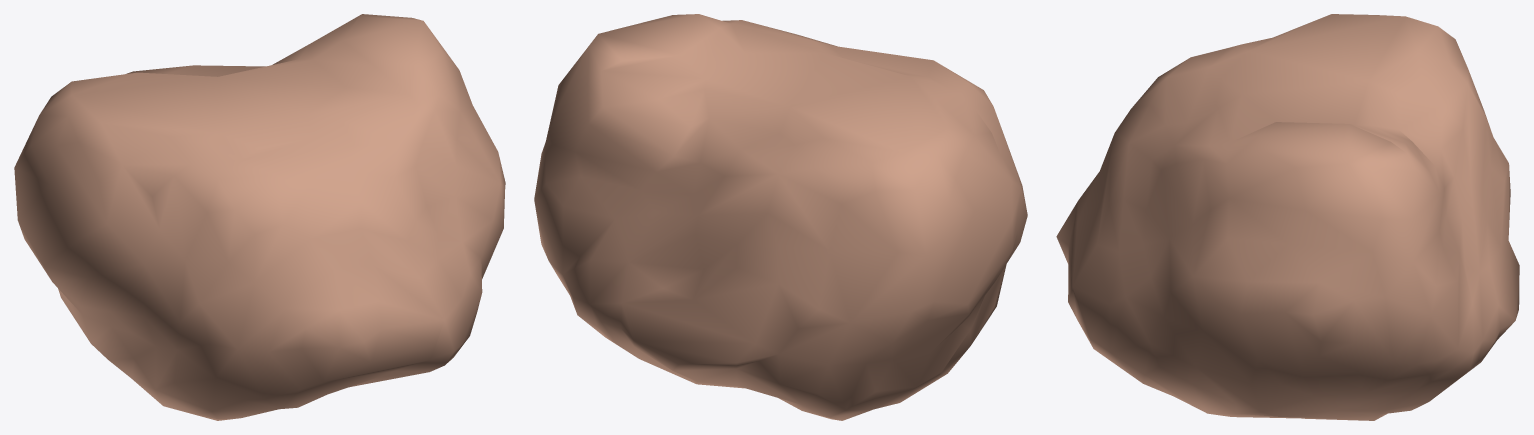
File: tsd_s0327_older_adult_male.reproductive.LOD2.glb
3 views of the same model, side by side, from view 1: azimuth 30°, elevation 25°; view 2: azimuth 150°, elevation 25°; view 3: azimuth 270°, elevation 25° (orthographic). The views are drawn at different scales.
Visible parts, largest first — view 1: TSD_S0327.OLDER_ADULT.MALE.REPRODUCTIVE.PROSTATE; view 2: TSD_S0327.OLDER_ADULT.MALE.REPRODUCTIVE.PROSTATE; view 3: TSD_S0327.OLDER_ADULT.MALE.REPRODUCTIVE.PROSTATE.
Part boxes in pixels (x1,y1,x2,y2): TSD_S0327.OLDER_ADULT.MALE.REPRODUCTIVE.PROSTATE: (14,14,505,420); TSD_S0327.OLDER_ADULT.MALE.REPRODUCTIVE.PROSTATE: (534,14,1027,420); TSD_S0327.OLDER_ADULT.MALE.REPRODUCTIVE.PROSTATE: (1056,14,1519,420).
Size of the model in its own units: 0.044 by 0.0287 by 0.0404.
